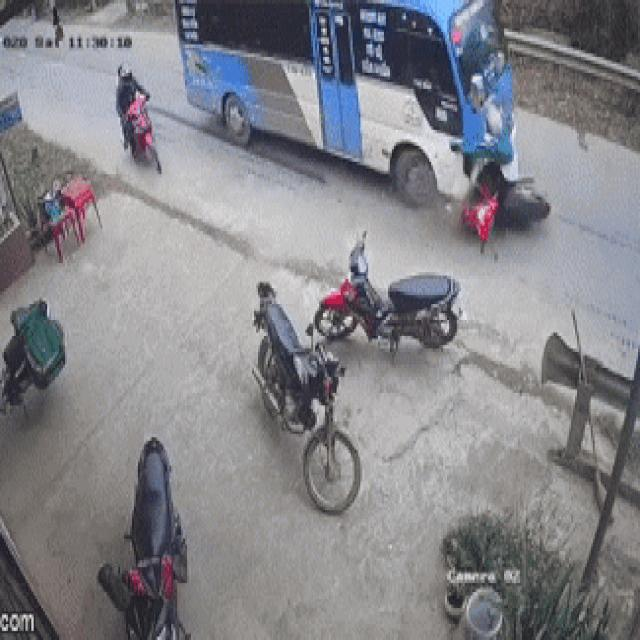multiple_accident: (169, 0, 557, 256)
